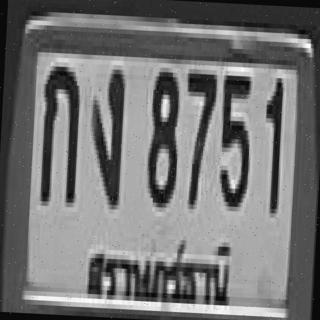A01: (37, 61, 80, 203)
A07: (86, 64, 124, 205)
N01: (260, 73, 282, 209)
N05: (216, 71, 252, 207)
N07: (180, 69, 216, 206)
N08: (144, 67, 180, 204)
P67: (83, 226, 238, 316)
